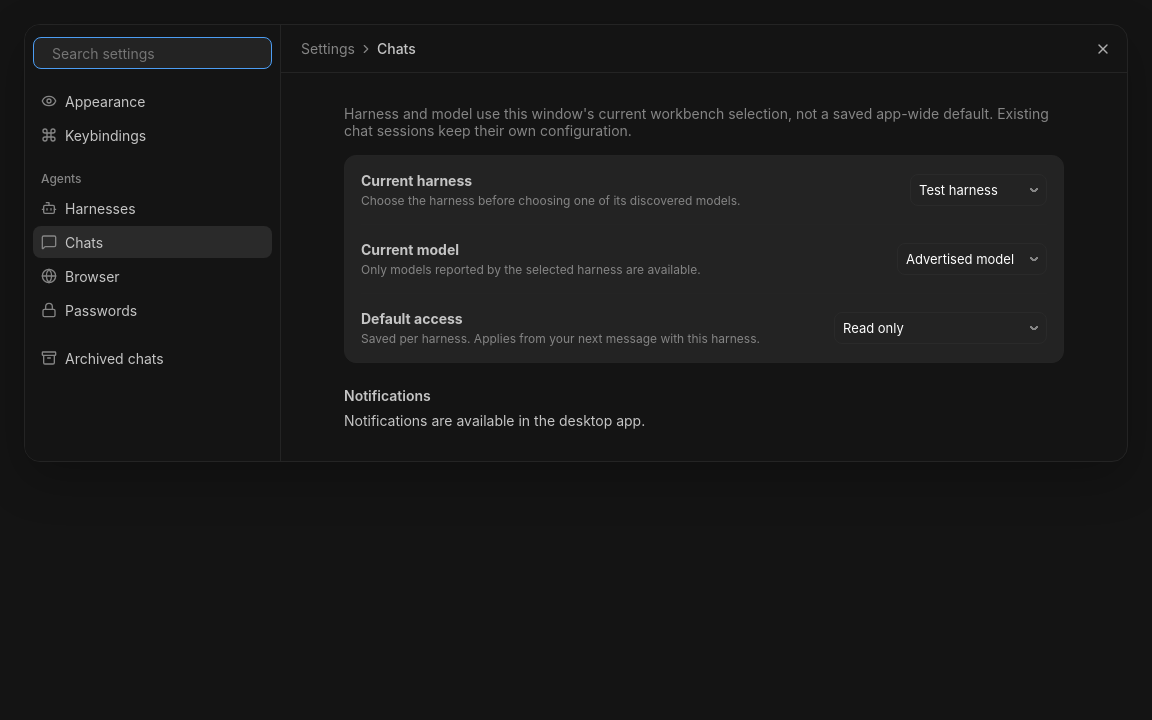
Test case: lists app-wide and Agent shortcuts and leaves Editor shortcuts to Editor settings
Click the button "Keybindings": (152, 135) top-left (33, 119), bottom-right (272, 151)
(page scrolled)
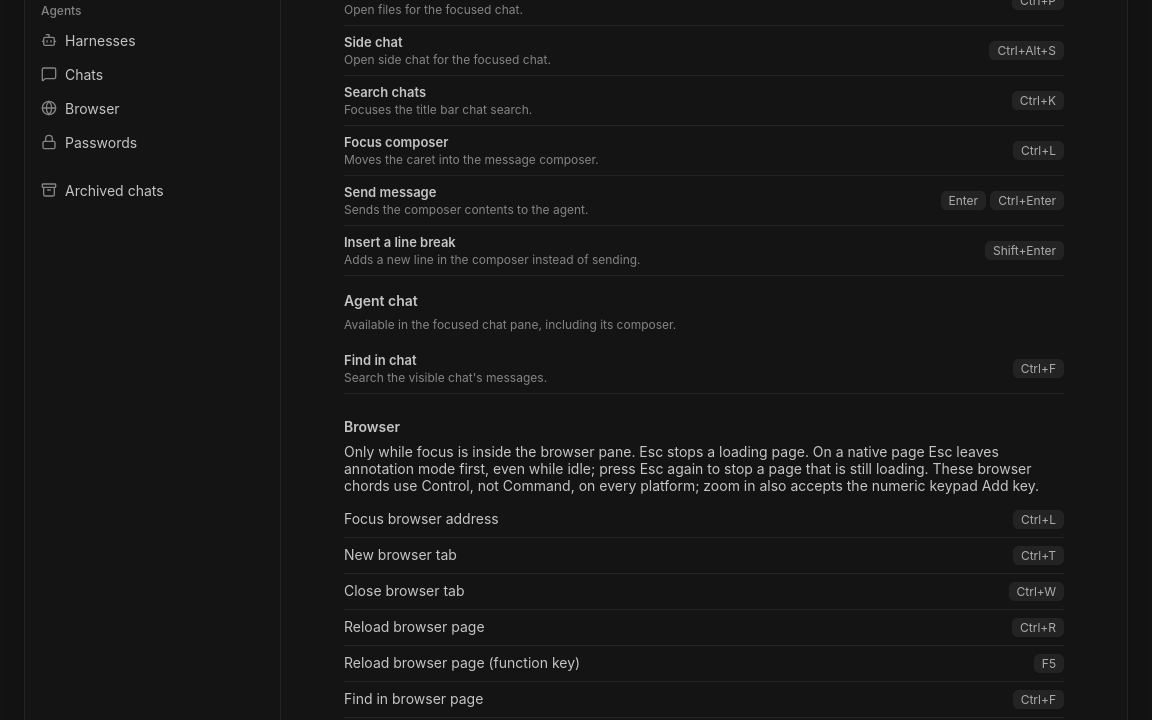
Expected: the text "Find in chat" is shown, top-left (344, 352), bottom-right (417, 368)
